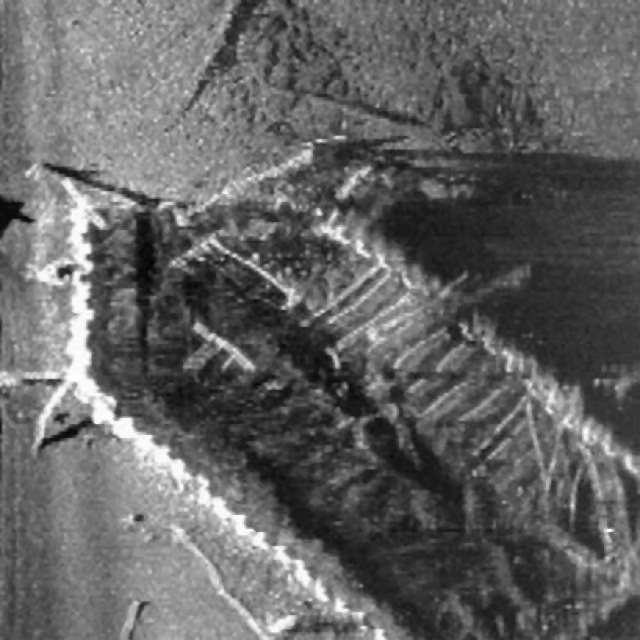Ship: (14, 133, 640, 640)
